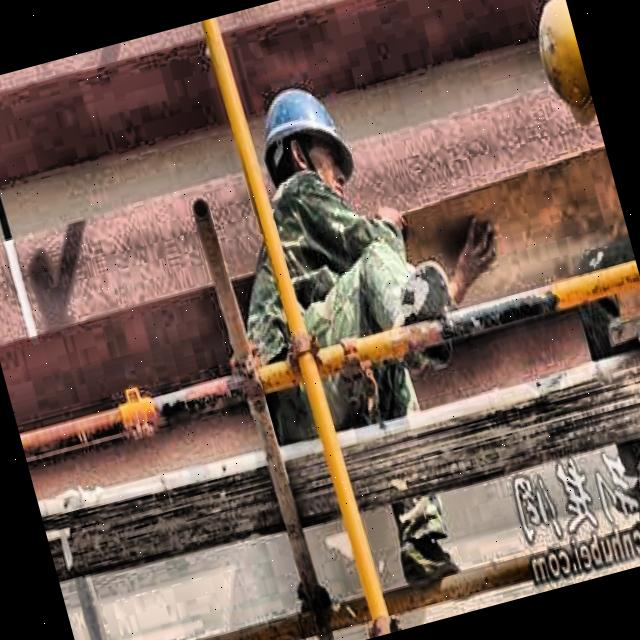helmet: (238, 57, 374, 229)
